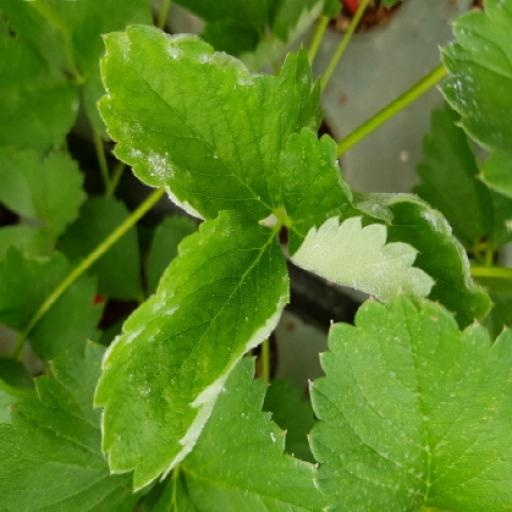Powdery Mildew Leaf: (93, 16, 292, 303), (96, 285, 324, 486), (276, 179, 495, 386), (434, 315, 511, 511)
